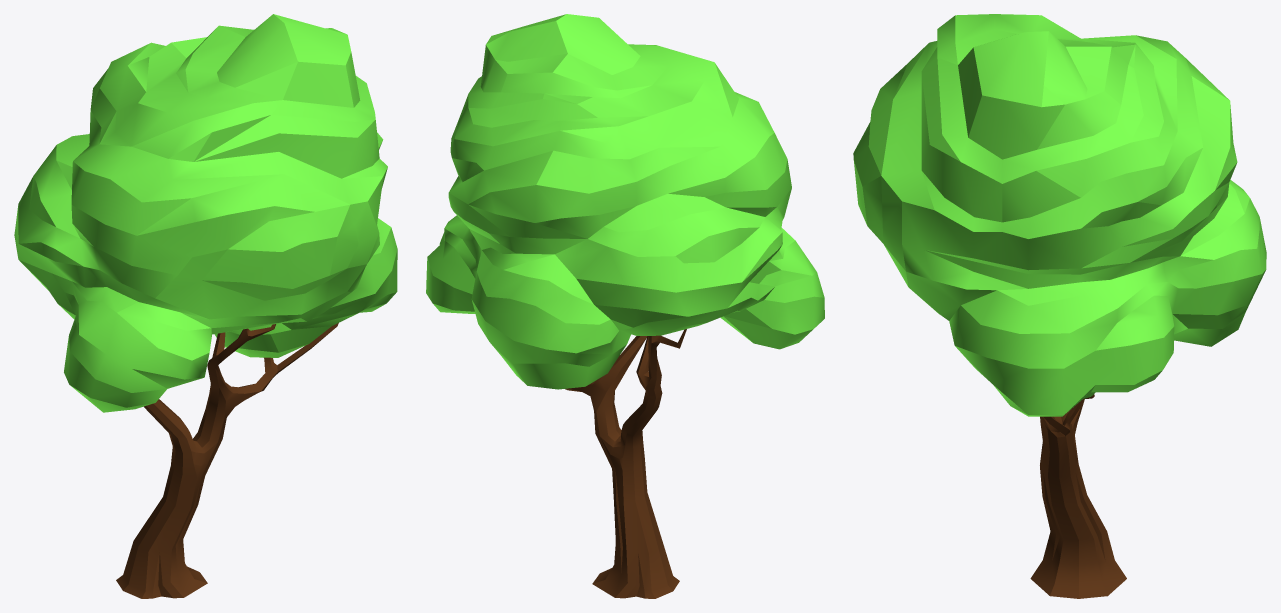
The picture shows the model from 3 angles, left to right: view 1: azimuth 30°, elevation 25°; view 2: azimuth 150°, elevation 25°; view 3: azimuth 270°, elevation 25°; orthographic projection. The views are drawn at different scales.
Parts seen in each view (by area): view 1: Tree_free_01; view 2: Tree_free_01; view 3: Tree_free_01.
Boxes of the visible parts, <box> form: Tree_free_01: <box>14,14,397,598</box>; Tree_free_01: <box>426,14,824,598</box>; Tree_free_01: <box>853,14,1266,598</box>.
Bounding box in the file's own units: 455 × 684 × 428.
Materials: 1 (1 with a texture image).
